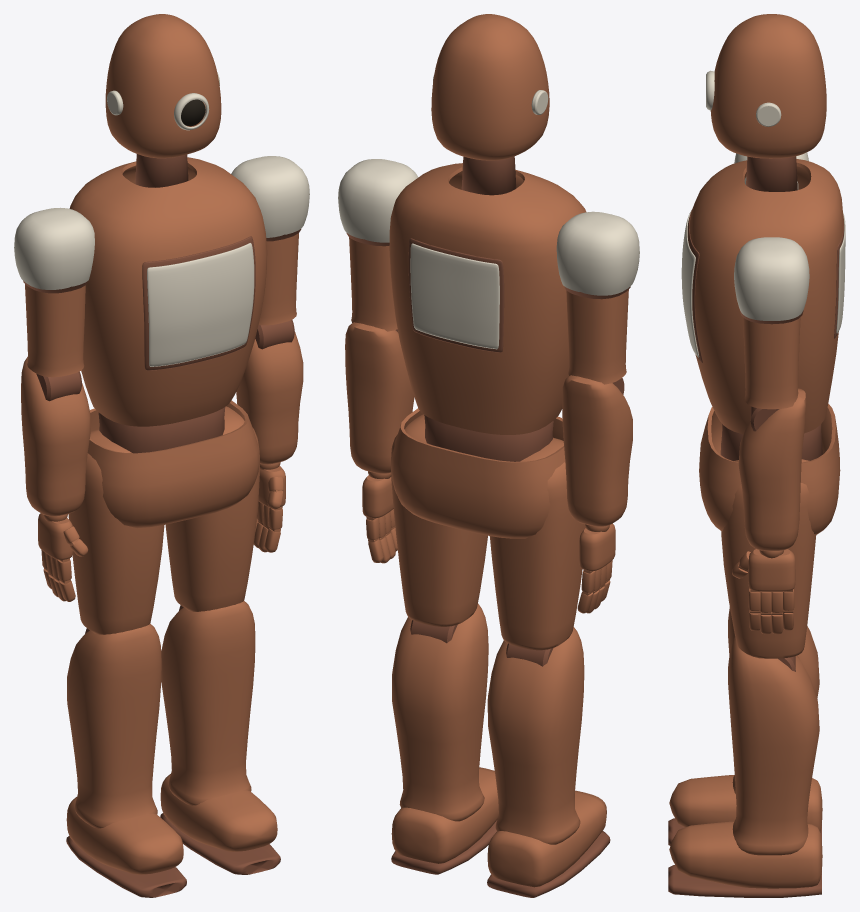
The model's file is fable-5.1.glb.
3 renders of one model, left to right at view 1: azimuth 30°, elevation 25°; view 2: azimuth 150°, elevation 25°; view 3: azimuth 270°, elevation 25°, orthographic. The views are drawn at different scales.
Parts seen in each view (by area): view 1: torso, shin_R, shin_L, head, pelvis, upper_R, thigh_R, thigh_L, fore_R, upper_L, foot_R, foot_L (+6 smaller); view 2: torso, shin_R, shin_L, head, pelvis, thigh_R, upper_R, thigh_L, fore_R, upper_L, fore_L, foot_R (+6 smaller); view 3: torso, shin_L, head, upper_L, foot_L, fore_L, thigh_L, pelvis, foot_R, hand_L, fingers_L, neck (+1 smaller).
Part boxes in pixels (box(x1,y1,x2,y2)): torso: box(69, 157, 267, 453); shin_R: box(67, 623, 161, 828); shin_L: box(161, 601, 255, 805); head: box(105, 14, 221, 158); pelvis: box(87, 400, 259, 528); upper_R: box(14, 207, 94, 401); thigh_R: box(68, 429, 164, 634); thigh_L: box(165, 406, 259, 611); fore_R: box(21, 356, 90, 516); upper_L: box(231, 156, 309, 349); foot_R: box(66, 797, 186, 897); foot_L: box(160, 774, 280, 874); torso: box(389, 163, 586, 461); shin_R: box(487, 627, 584, 844); shin_L: box(392, 603, 488, 821); head: box(431, 14, 549, 160); pelvis: box(391, 408, 565, 538); thigh_R: box(489, 437, 585, 666); upper_R: box(556, 211, 639, 394); thigh_L: box(391, 414, 487, 643); fore_R: box(562, 375, 632, 526); upper_L: box(338, 159, 418, 332); fore_L: box(345, 322, 414, 473); foot_R: box(487, 790, 610, 897); torso: box(681, 159, 845, 460); shin_L: box(728, 636, 819, 855); head: box(706, 14, 826, 158); upper_L: box(734, 237, 809, 431); foot_L: box(668, 821, 822, 897); fore_L: box(738, 388, 806, 550); thigh_L: box(721, 459, 816, 671); pelvis: box(699, 404, 840, 534); foot_R: box(668, 775, 822, 845); hand_L: box(732, 549, 795, 591); fingers_L: box(748, 589, 794, 634); neck: box(746, 156, 797, 191).
Size of the model in its own units: 0.6318 by 1.77 by 0.3377.
